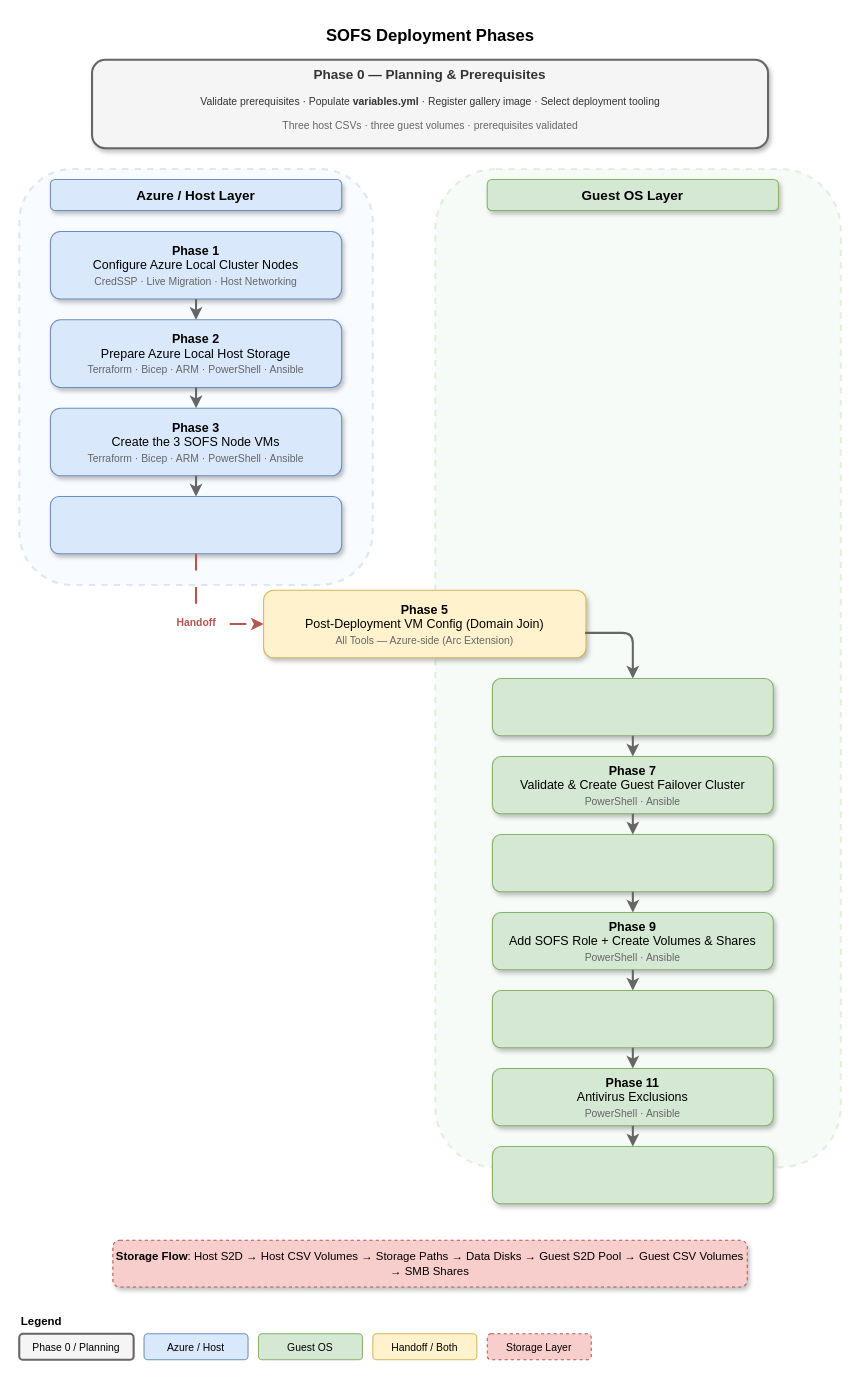
Some shapes in this 859 by 1378 pixel diagram are drawn without their labels. The shapes that lost their labels are listed below. From the top down, each one's centre as x and y in pixels, then its label:
At (x=196, y=526): "Phase 4 Configure Anti-Affinity Rules PowerShell".
At (x=633, y=708): "Phase 6 Install Required Roles and Features PowerShell · Ansible".
At (x=633, y=864): "Phase 8 Enable Storage Spaces Direct (S2D) PowerShell · Ansible".
At (x=633, y=1020): "Phase 10 Configure NTFS Permissions for FSLogix PowerShell · Ansible".
At (x=633, y=1176): "Phase 12 Validation and Testing PowerShell · Ansible".
